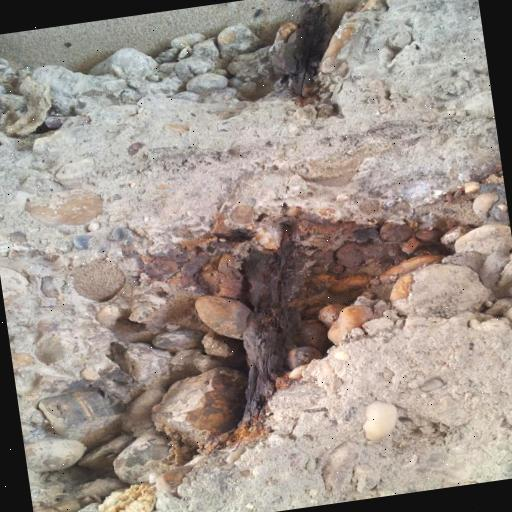spalling: (123, 167, 511, 468)
